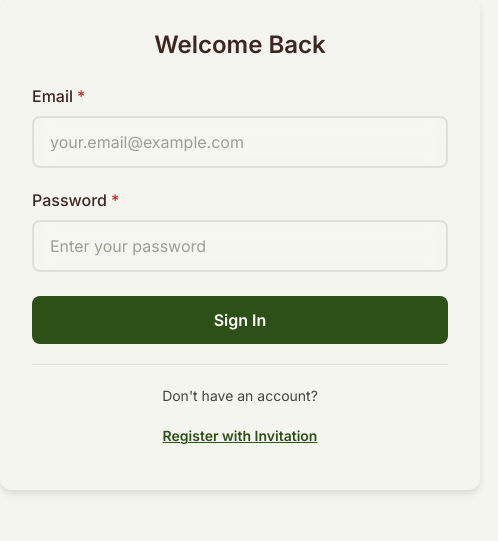
Test case: LoginForm › should display error message when authentication fails
The width and height of the screenshot is (498, 541).
Note: Fill in data
In the field labelled "Email*": (240,142) [32, 116, 448, 168], type "wrong@example.com"
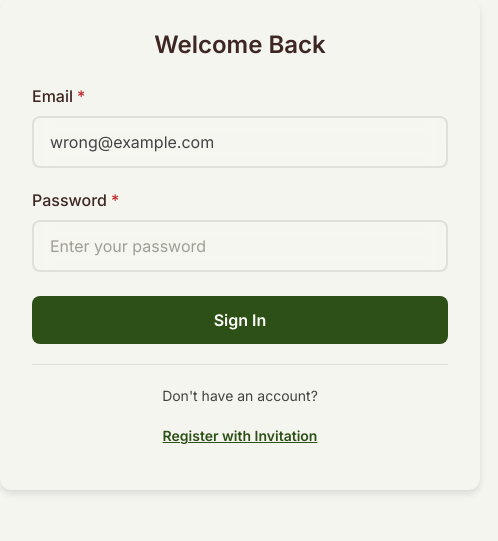
In the password field labelled "Password*": (240,246) [32, 220, 448, 272], type "WrongPassword123"
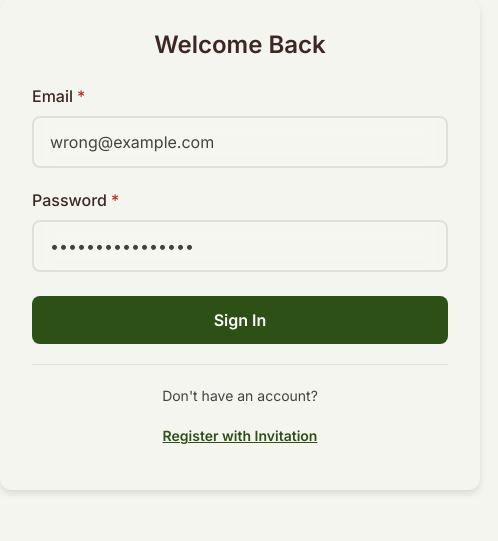
Note: Submit the form
Click the button "Sign In": (240,320) [32, 296, 448, 344]
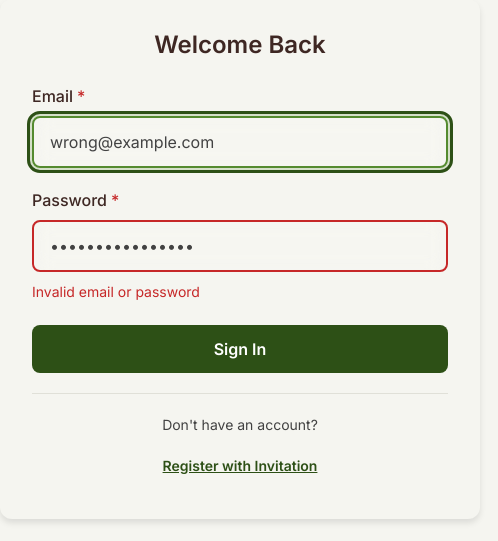
Expected: the text "Invalid email or password" is shown, [32, 283, 200, 300]
